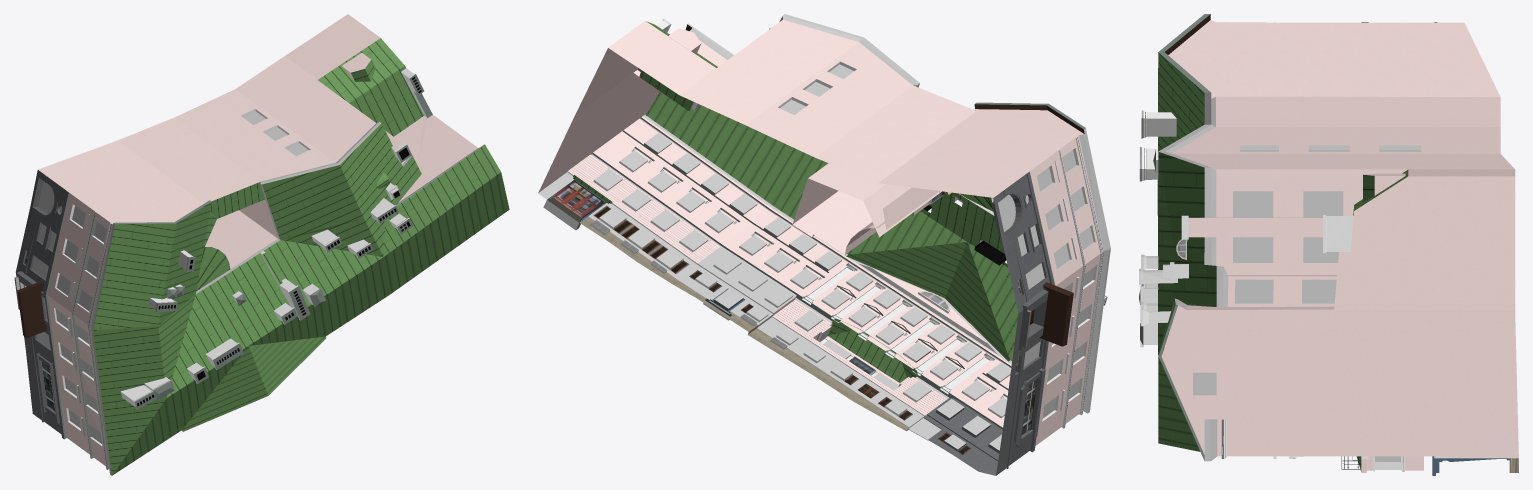
Rendered from Dunkri_8.obj.
3 views of the same model, side by side, from view 1: azimuth 30°, elevation 25°; view 2: azimuth 150°, elevation 25°; view 3: azimuth 270°, elevation 25° (orthographic). The views are drawn at different scales.
Parts seen in each view (by area): view 1: Dunkri_8; view 2: Dunkri_8; view 3: Dunkri_8.
Boxes of the visible parts, x1,y1,x2,y2 form: Dunkri_8: [14, 14, 509, 475]; Dunkri_8: [538, 14, 1110, 475]; Dunkri_8: [1139, 14, 1518, 475].
Size of the model in its own units: 43.49 by 29.63 by 20.07.
